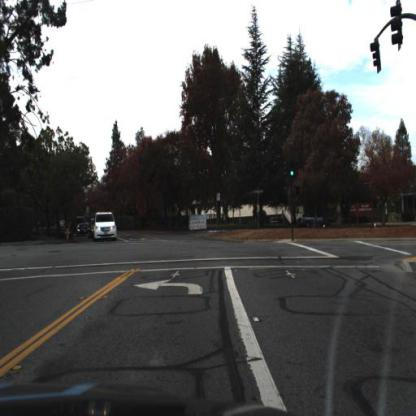car: (93, 211, 118, 240), (297, 210, 326, 229), (74, 215, 90, 235)
trafficLight-Green: (286, 168, 299, 186), (289, 152, 296, 180)
